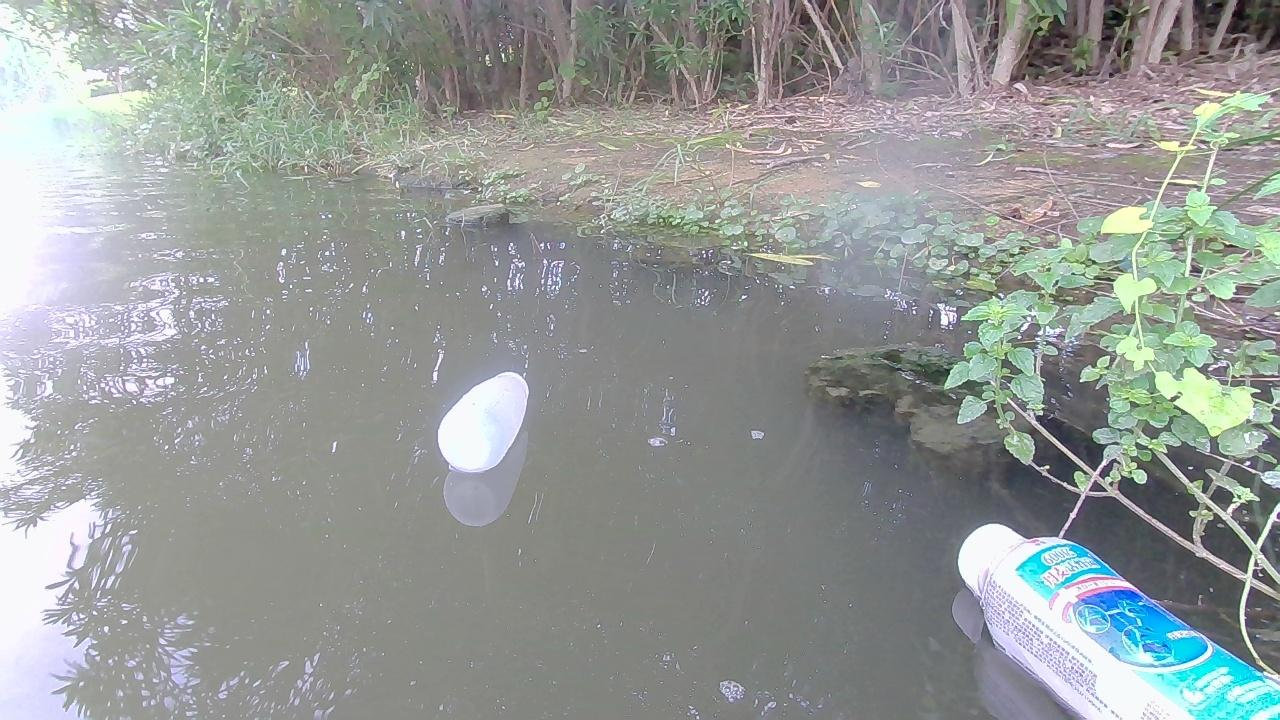bottle: (954, 510, 1272, 719), (439, 361, 531, 472)
